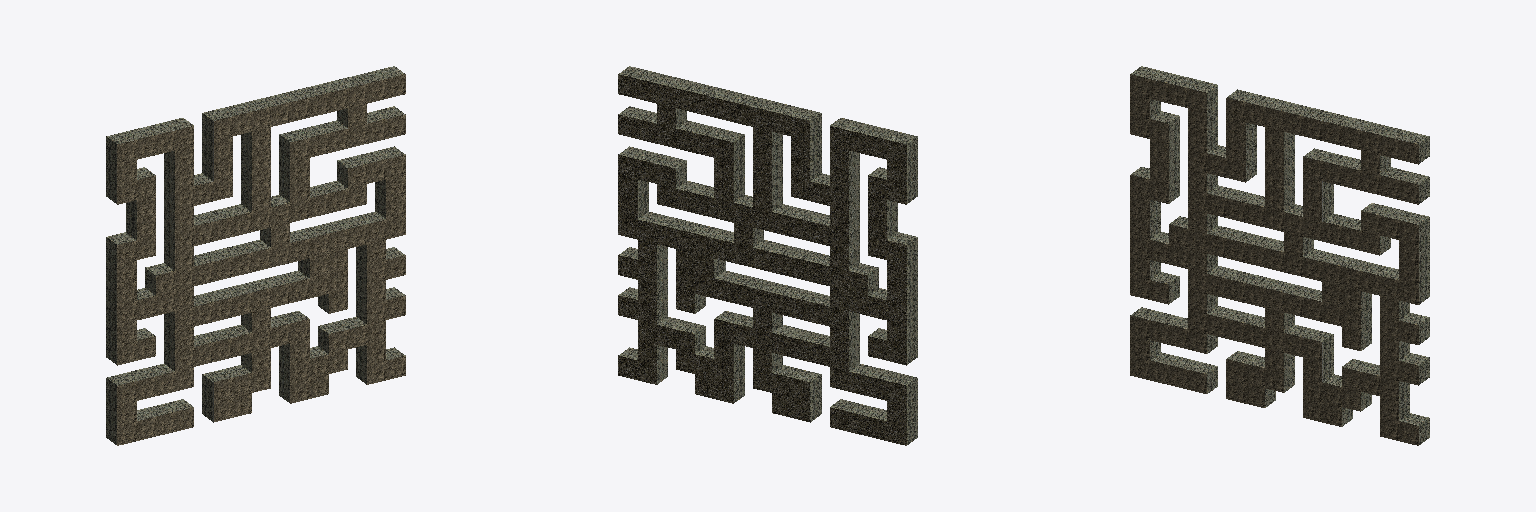
The picture shows the model from 3 angles: view 1: azimuth 30°, elevation 25°; view 2: azimuth 150°, elevation 25°; view 3: azimuth 330°, elevation 25°; orthographic projection.
Bounding box in the file's own units: 15 × 15 × 1.
3 materials, 3 textured.